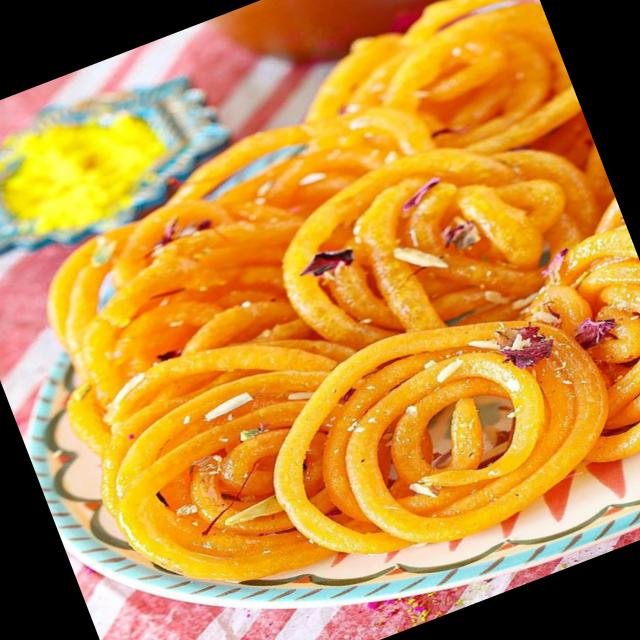jalebi: (18, 4, 640, 640)
